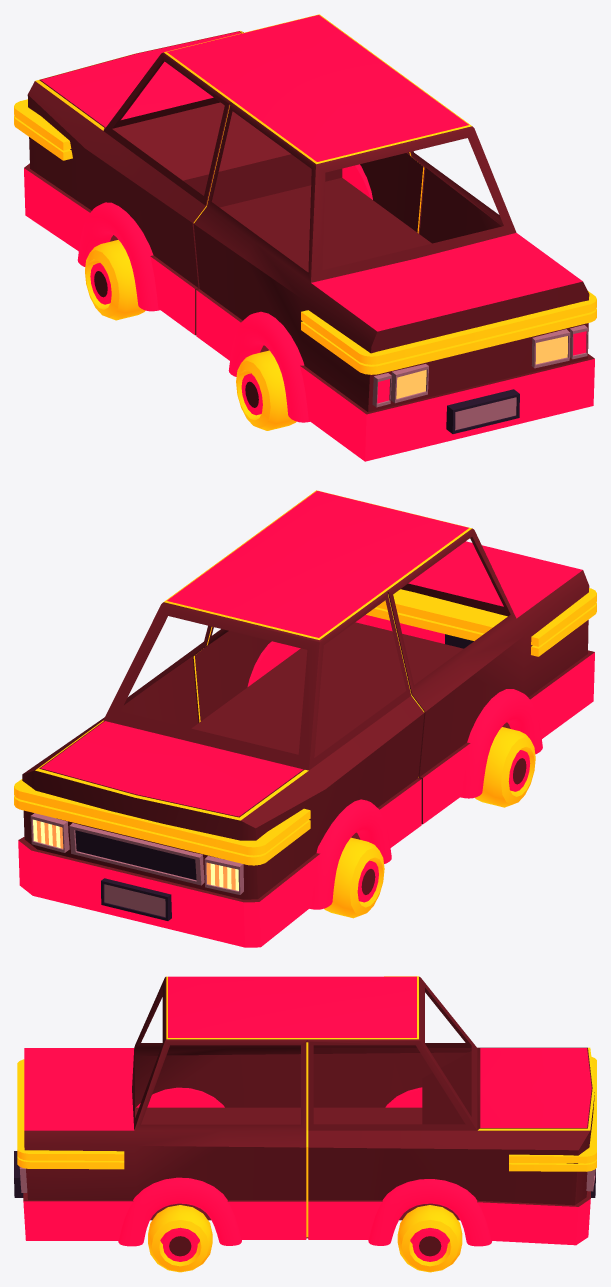
Rendered from car_3.fbx.
3 renders of one model, top to bottom at view 1: azimuth 30°, elevation 25°; view 2: azimuth 150°, elevation 25°; view 3: azimuth 270°, elevation 25°, orthographic. The views are drawn at different scales.
Parts seen in each view (by area): view 1: Cube.064, Cube.065, Cube.073, Cylinder.014, Cube.070, Cube.071, Cube.069, Cube.072; view 2: Cube.064, Cube.065, Cube.069, Cylinder.014, Cube.073, Cube.067, Cube.068, Cube.066; view 3: Cube.064, Cube.065, Cylinder.014, Cube.073, Cube.069.
Part boxes in pixels (box(x1,y1,x2,y2)): Cube.064: box(24, 14, 594, 461); Cube.065: box(77, 164, 372, 422); Cube.073: box(301, 291, 596, 374); Cylinder.014: box(85, 240, 296, 430); Cube.070: box(390, 329, 570, 403); Cube.071: box(446, 389, 519, 433); Cube.069: box(14, 99, 72, 160); Cube.072: box(372, 325, 587, 407); Cube.064: box(18, 490, 594, 947); Cube.065: box(247, 641, 542, 909); Cube.069: box(14, 779, 310, 865); Cylinder.014: box(324, 727, 535, 918); Cube.073: box(366, 588, 596, 656); Cube.067: box(69, 823, 204, 885); Cube.068: box(30, 813, 243, 894); Cube.066: box(101, 878, 171, 920); Cube.064: box(23, 976, 594, 1245); Cube.065: box(118, 1087, 491, 1246); Cylinder.014: box(148, 1205, 462, 1272); Cube.073: box(17, 1059, 124, 1169); Cube.069: box(509, 1056, 596, 1171).
Size of the model in its own units: 222 by 203 by 500.
